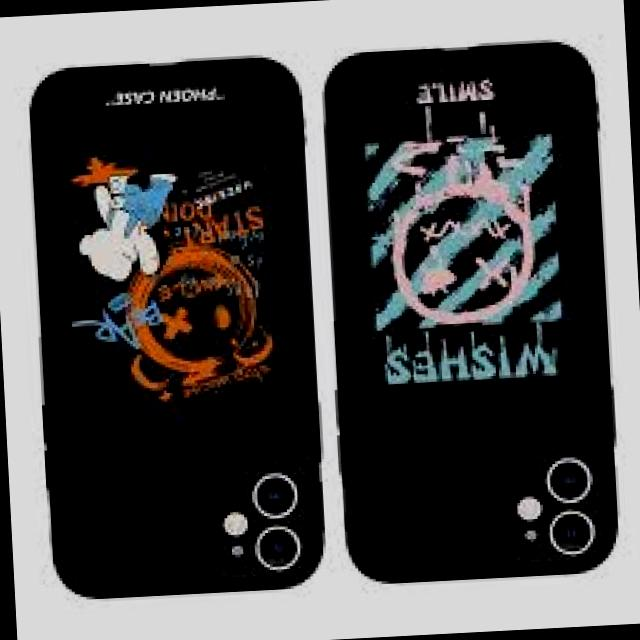lens_back: (537, 445, 602, 506), (241, 462, 305, 521), (545, 506, 600, 561), (250, 523, 306, 576), (336, 614, 348, 618)
phone: (20, 46, 331, 614), (320, 36, 624, 592)
